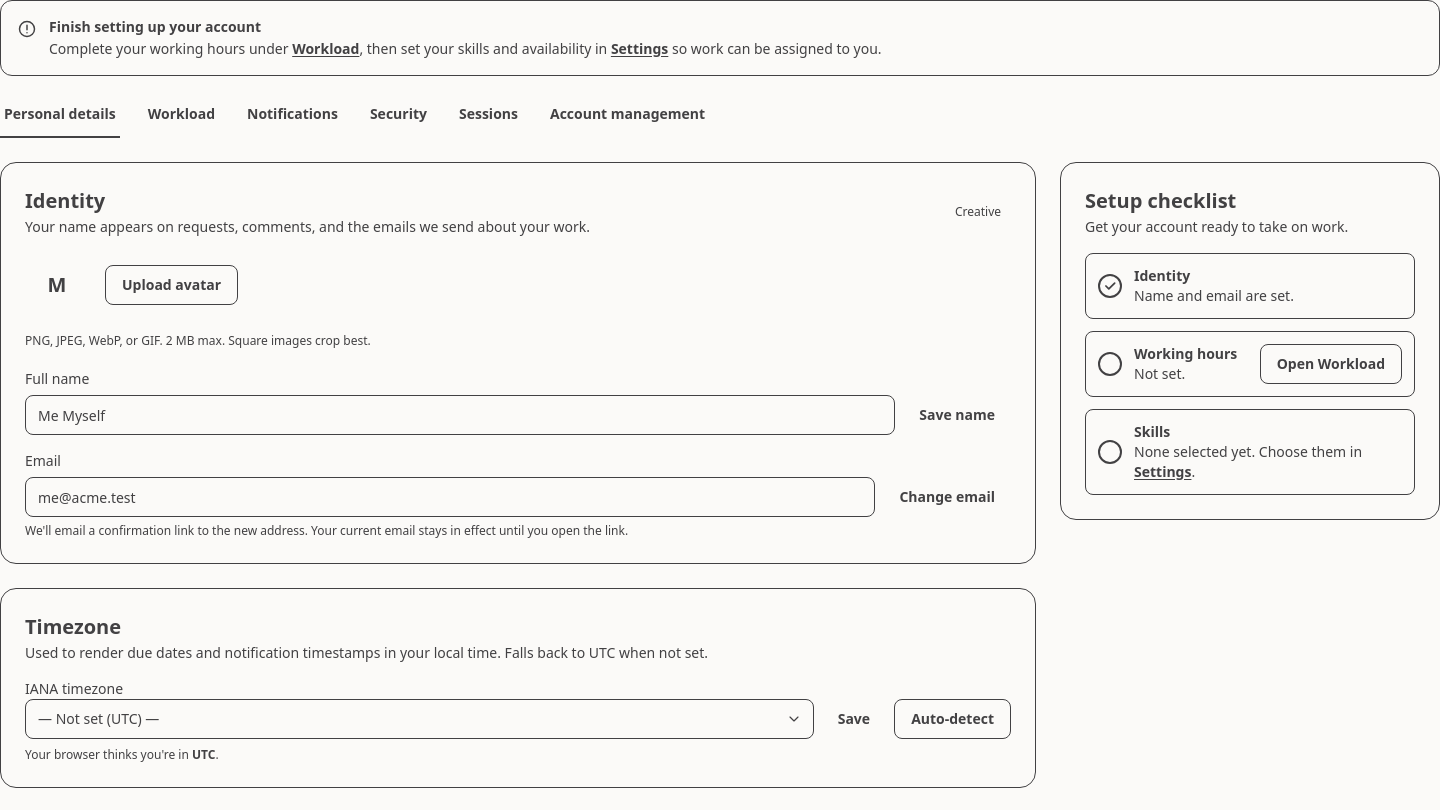
Test case: Creative setup › nudges until working hours and skills are set
Expected: the text "Finish setting up your account" is shown, [49, 17, 261, 36]
Expected: the text "None selected yet. Choose them in Settings ." is shown, [1134, 442, 1402, 482]
Click the button "Open Workload" at (1331, 364), box [1260, 344, 1402, 384]
(page scrolled)
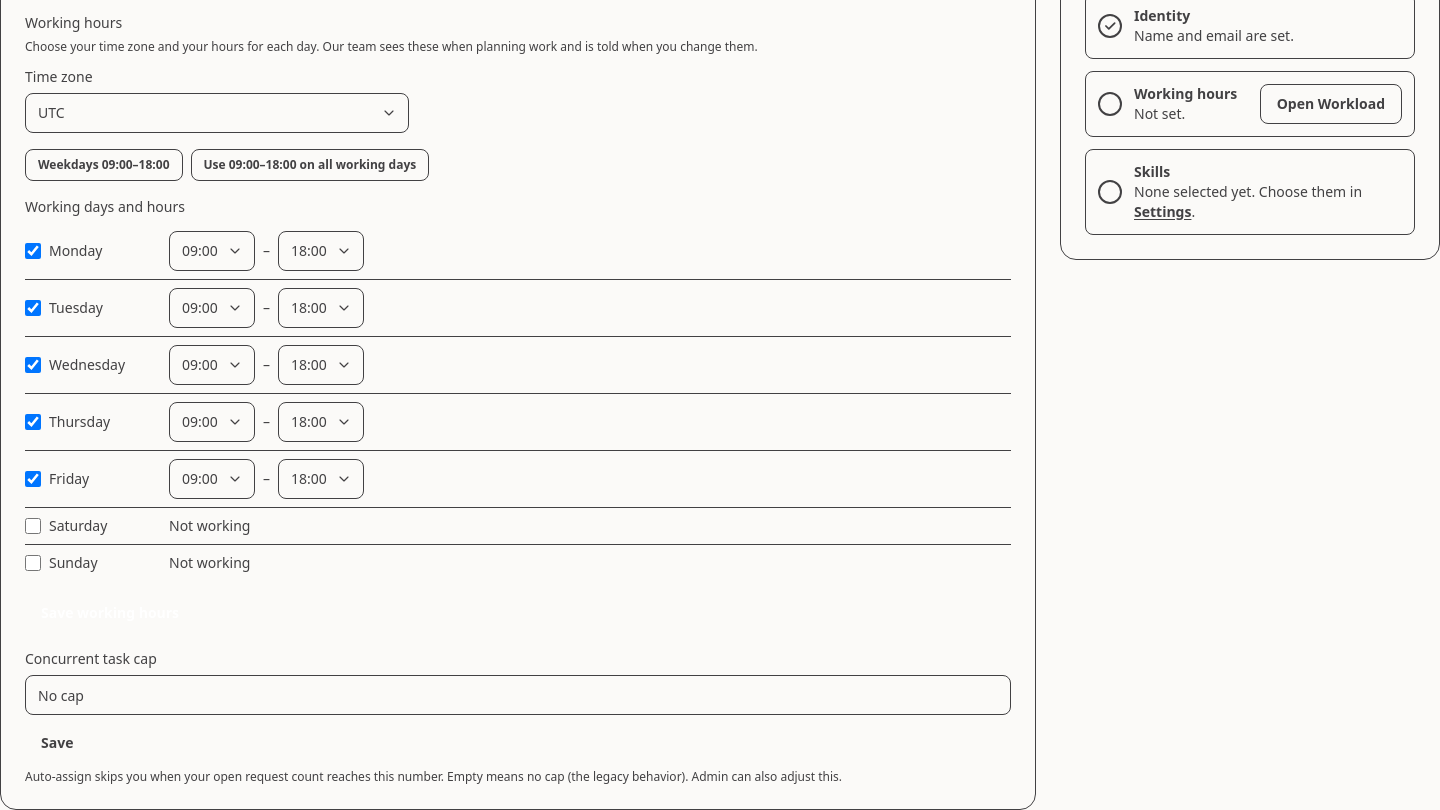
Result: the dropdown labelled "Time zone" is shown at [25, 93, 409, 133]
